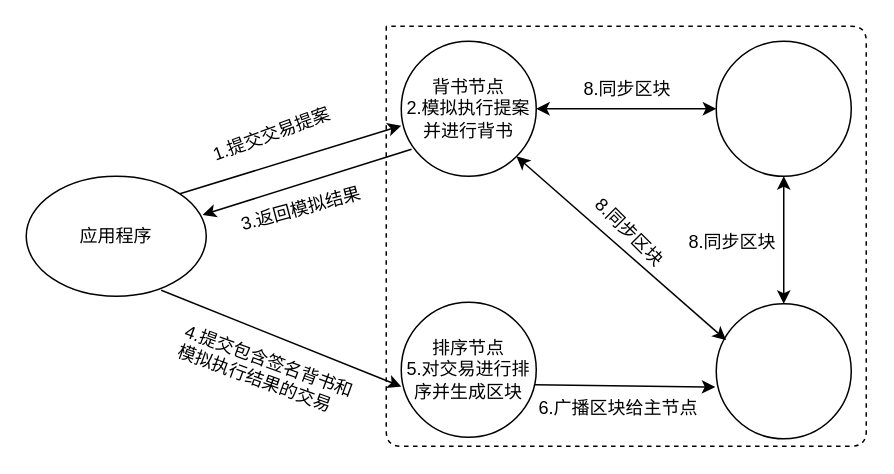
The diagram is 894 pixels wide and 474 high, and some of its shapes have lost their labels. The centre of each missing label's shape, as x and y in pixels:
"主节点 7.保存区块到帐本" belongs at [783,370].
"记账节点 9.保存区块到账本" belongs at [783,108].
